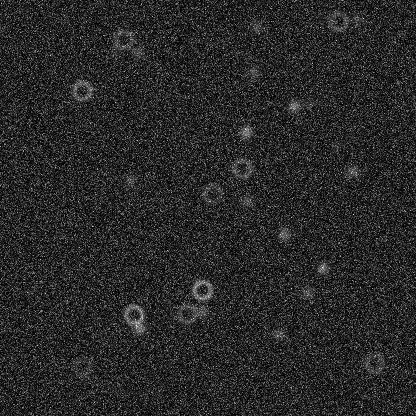Ring: (70, 354, 94, 378), (111, 27, 135, 51), (230, 156, 254, 180), (190, 277, 214, 301), (200, 181, 224, 205), (121, 302, 145, 326), (362, 351, 386, 375), (174, 301, 198, 325), (69, 78, 93, 102), (326, 9, 350, 33)
Spot: (237, 124, 253, 140), (275, 226, 291, 242), (344, 163, 360, 179), (248, 18, 264, 34), (314, 259, 330, 275), (122, 171, 138, 187), (107, 43, 123, 59), (300, 94, 316, 110), (299, 284, 315, 300), (131, 320, 147, 336), (93, 326, 109, 342), (327, 137, 343, 153), (244, 64, 260, 80), (194, 303, 210, 319), (285, 97, 301, 113), (238, 192, 254, 208), (129, 44, 145, 60), (270, 325, 286, 341), (348, 11, 364, 27)
